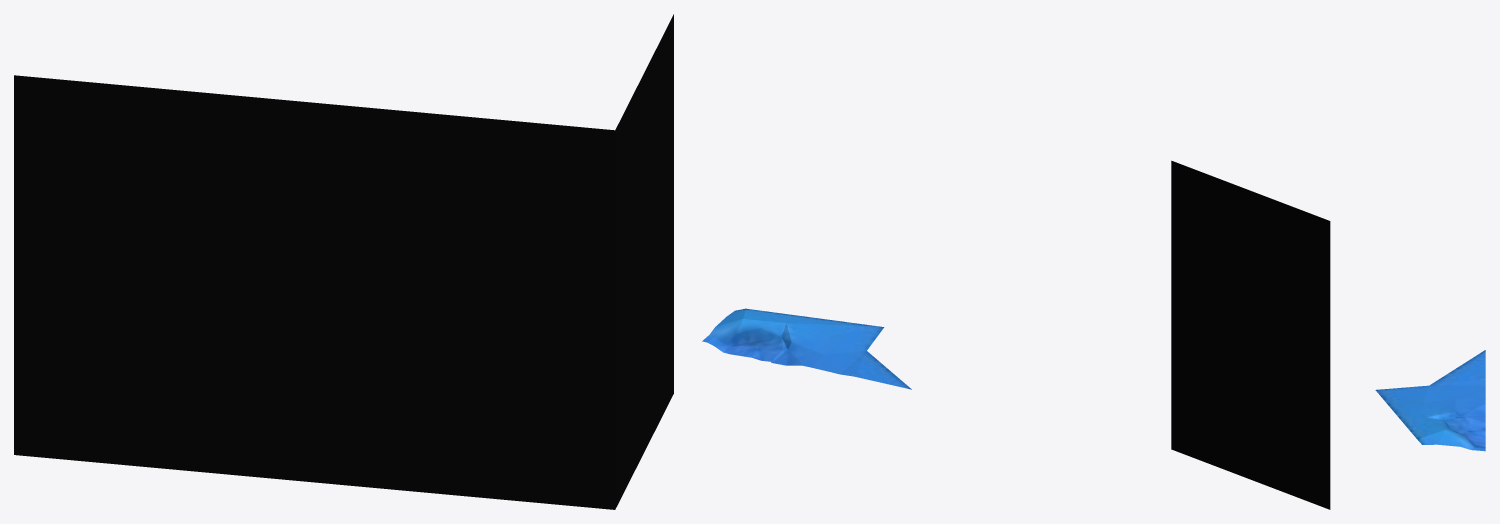
3 views of the same model, side by side, from view 1: azimuth 30°, elevation 25°; view 2: azimuth 150°, elevation 25°; view 3: azimuth 270°, elevation 25° (orthographic). The views are drawn at different scales.
Size of the model in its own units: 13.83 by 9 by 8.88.
2 materials, 2 textured.
